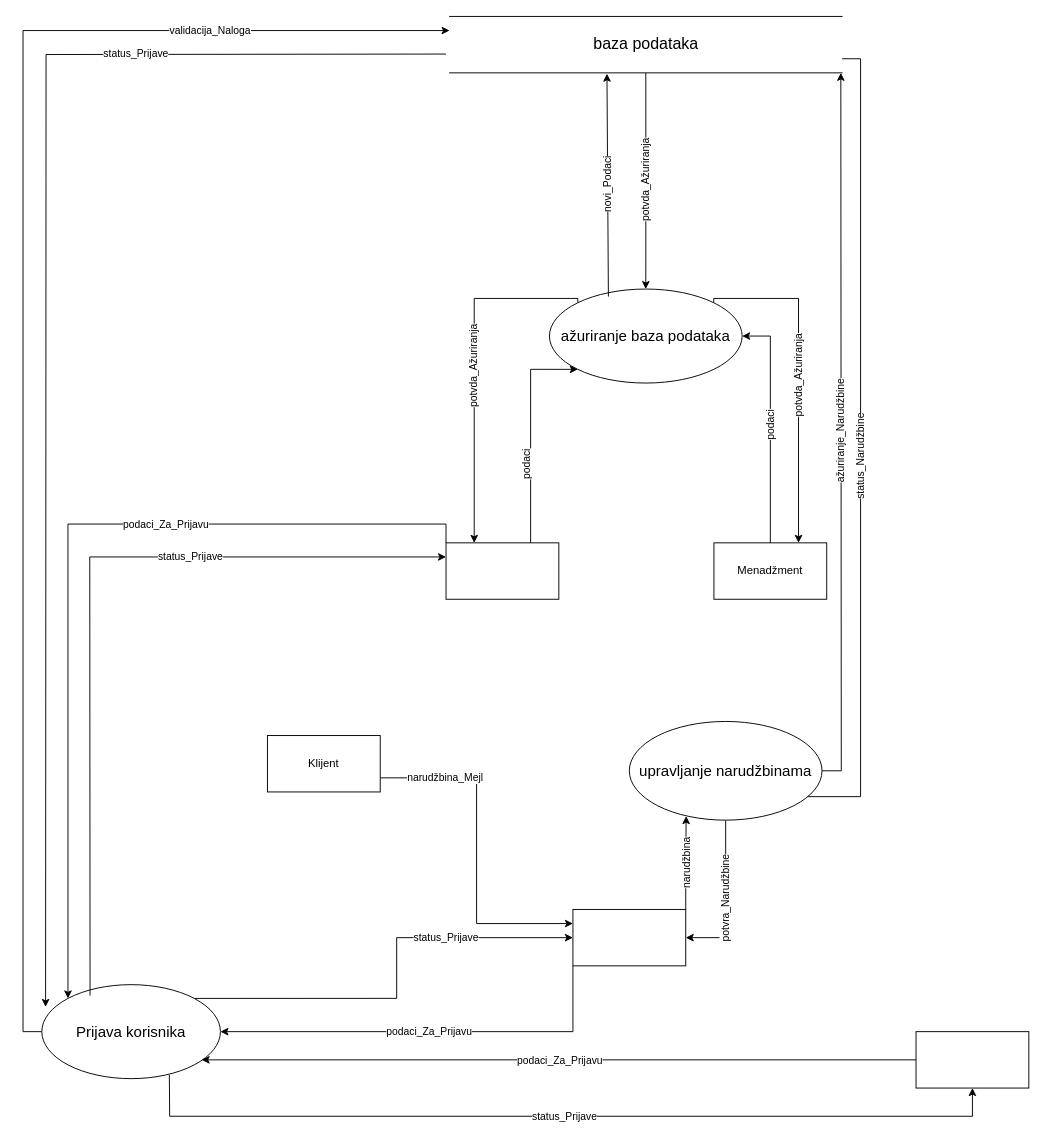
The diagram is 1045 pixels wide and 1140 high, and some of its shapes have lost their labels. Here are the shapes that lost their labels. From the top down, the centre of each, then its label:
At (502,570): "Administrator".
At (629,937): "Dispečer".
At (972,1059): "Vozač".
